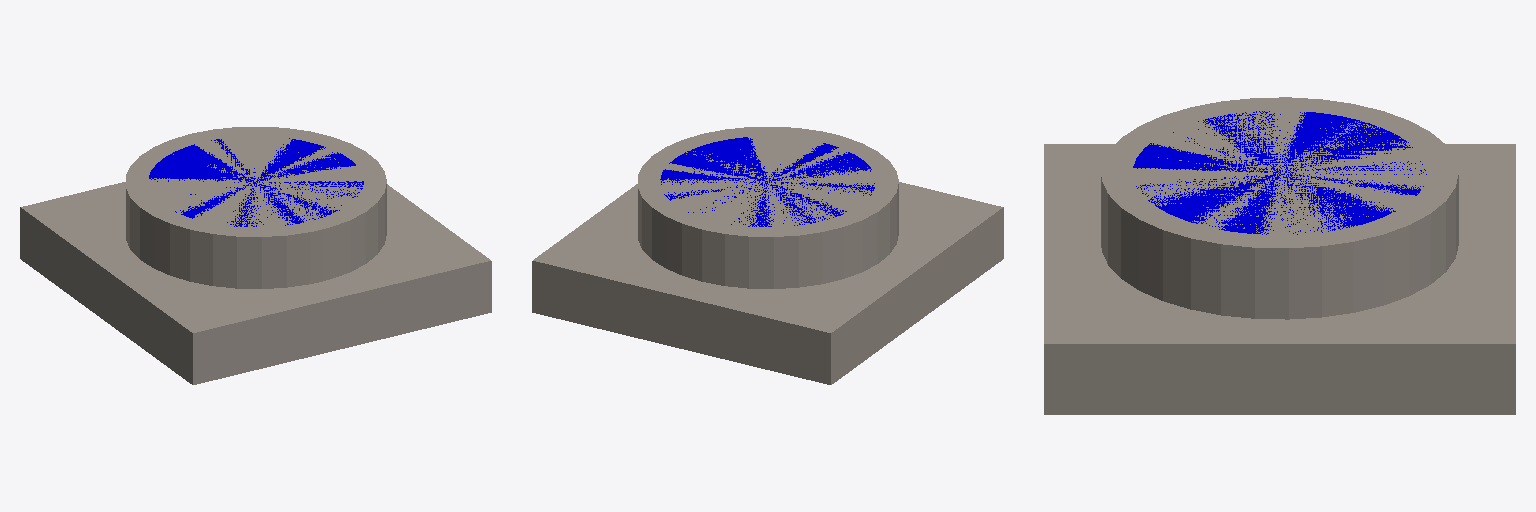
URDF robot description (base-l.SLDASM):
<?xml version="1.0" encoding="utf-8"?>
<!-- This URDF was automatically created by SolidWorks to URDF Exporter! Originally created by [author] ([email redacted]) 
     Commit Version: 1.6.0-4-g7f85cfe  Build Version: 1.6.7995.38578
     For more information, please see http://wiki.ros.org/sw_urdf_exporter -->
<robot
  name="base-l.SLDASM">
  <link
    name="b_b">
    <inertial>
      <origin
        xyz="-8.5773E-18 -1.7168E-18 0.020302"
        rpy="0 0 0" />
      <mass
        value="6.3779" />
      <inertia
        ixx="0.011031"
        ixy="1.5011E-18"
        ixz="-4.0932E-19"
        iyy="0.011031"
        iyz="-2.3898E-19"
        izz="0.019686" />
    </inertial>
    <visual>
      <origin
        xyz="0 0 0"
        rpy="0 0 0" />
      <geometry>
        <mesh
          filename="package://base-l.SLDASM/meshes/b_b.STL" />
      </geometry>
      <material
        name="">
        <color
          rgba="0.64706 0.61961 0.58824 1" />
      </material>
    </visual>
    <collision>
      <origin
        xyz="0 0 0"
        rpy="0 0 0" />
      <geometry>
        <mesh
          filename="package://base-l.SLDASM/meshes/b_b.STL" />
      </geometry>
    </collision>
  </link>
  <link
    name="b_i">
    <inertial>
      <origin
        xyz="8.5773E-18 -1.2339E-17 0.029698"
        rpy="0 0 0" />
      <mass
        value="6.3779" />
      <inertia
        ixx="0.011031"
        ixy="-1.5011E-18"
        ixz="-4.0932E-19"
        iyy="0.011031"
        iyz="2.3898E-19"
        izz="0.019686" />
    </inertial>
    <visual>
      <origin
        xyz="0 0 0"
        rpy="0 0 0" />
      <geometry>
        <mesh
          filename="package://base-l.SLDASM/meshes/b_i.STL" />
      </geometry>
      <material
        name="">
        <color
          rgba="0 0 0.93333 1" />
      </material>
    </visual>
    <collision>
      <origin
        xyz="0 0 0"
        rpy="0 0 0" />
      <geometry>
        <mesh
          filename="package://base-l.SLDASM/meshes/b_i.STL" />
      </geometry>
    </collision>
  </link>
  <joint
    name="b_f"
    type="fixed">
    <origin
      xyz="0 0 0.05"
      rpy="3.14159265358979 0 3.14159265358979" />
    <parent
      link="b_b" />
    <child
      link="b_i" />
    <axis
      xyz="0 0 -1" />
  </joint>
</robot>

--- Render facts (derived) ---
The picture shows the robot from 3 angles, left to right: view 1: azimuth 30°, elevation 25°; view 2: azimuth 150°, elevation 25°; view 3: azimuth 270°, elevation 25°; orthographic projection.
Model base-l.SLDASM with 2 links and 1 joints (1 fixed), rooted at b_b, posed every joint at zero.
Links seen in each view (by area): view 1: b_b, b_i; view 2: b_b, b_i; view 3: b_b, b_i.
Link boxes in pixels (bbox=[...]): b_b: bbox=[20, 127, 491, 384]; b_i: bbox=[149, 138, 363, 226]; b_b: bbox=[532, 127, 1003, 384]; b_i: bbox=[660, 137, 874, 226]; b_b: bbox=[1044, 97, 1515, 414]; b_i: bbox=[1133, 111, 1426, 234].
Size in the robot's own frame: 0.15 by 0.15 by 0.05 metres.
2 mesh visuals loaded from 2 distinct referenced files (2 binary STL).